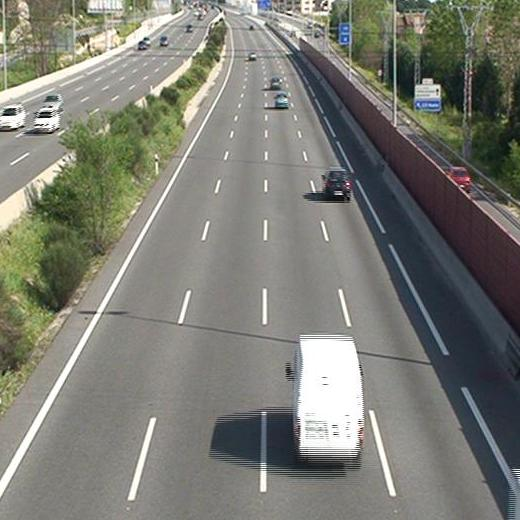car: (322, 169, 351, 197), (274, 93, 287, 108), (269, 76, 281, 88), (248, 52, 258, 61)
van: (292, 335, 363, 461)
